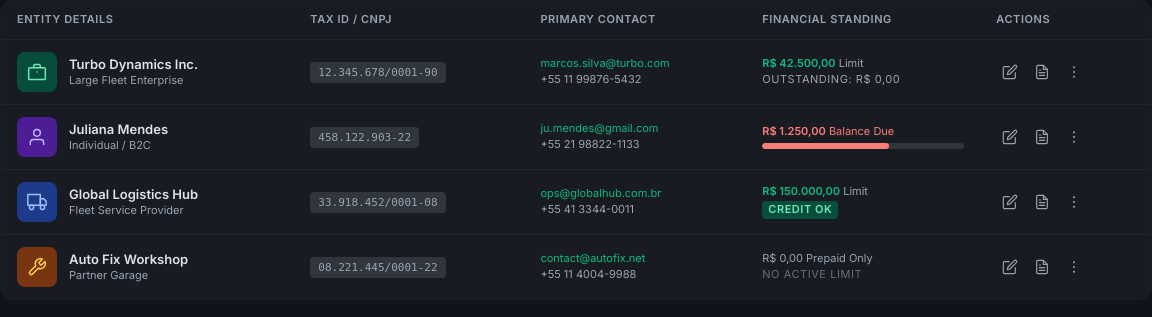
Test: EntityTable — 3.4 Coluna Actions › clicar em kebab abre o dropdown com as 3 opções
Click the button named "mais opções" in the row of "Turbo Dynamics Inc.": (1074, 72) top-left (1060, 58), bottom-right (1088, 86)
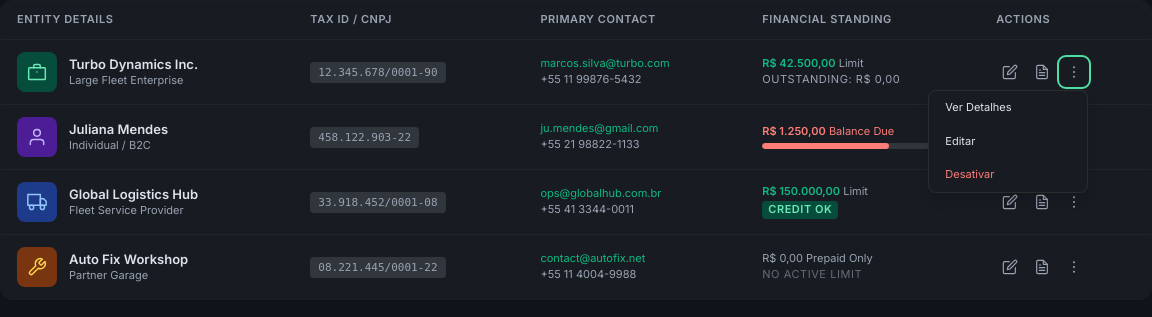
Check: the menu is shown, box top-left (928, 90), bottom-right (1088, 193)
Check: the menu item "Ver Detalhes" is shown, box top-left (929, 91), bottom-right (1087, 125)
Check: the menu item "Editar" is shown, box top-left (929, 124), bottom-right (1087, 158)
